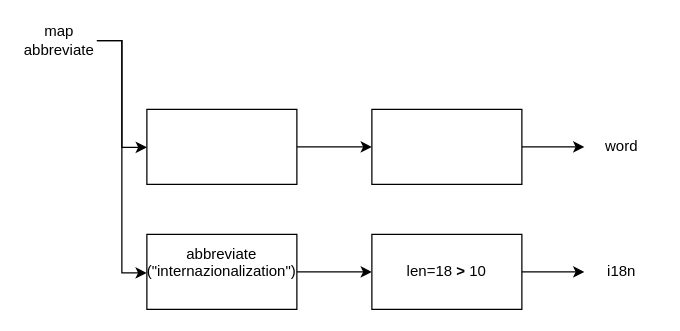
Some shapes in this 680 by 331 pixel diagram are drawn without their labels. The shapes that lost their labels are listed below. From the top down, each one's box as (x1, y1, x2, y2) in pixels, then its label:
(146, 108, 297, 184): abbreviate("word")
(371, 108, 522, 184): len=4 ≤ 10
